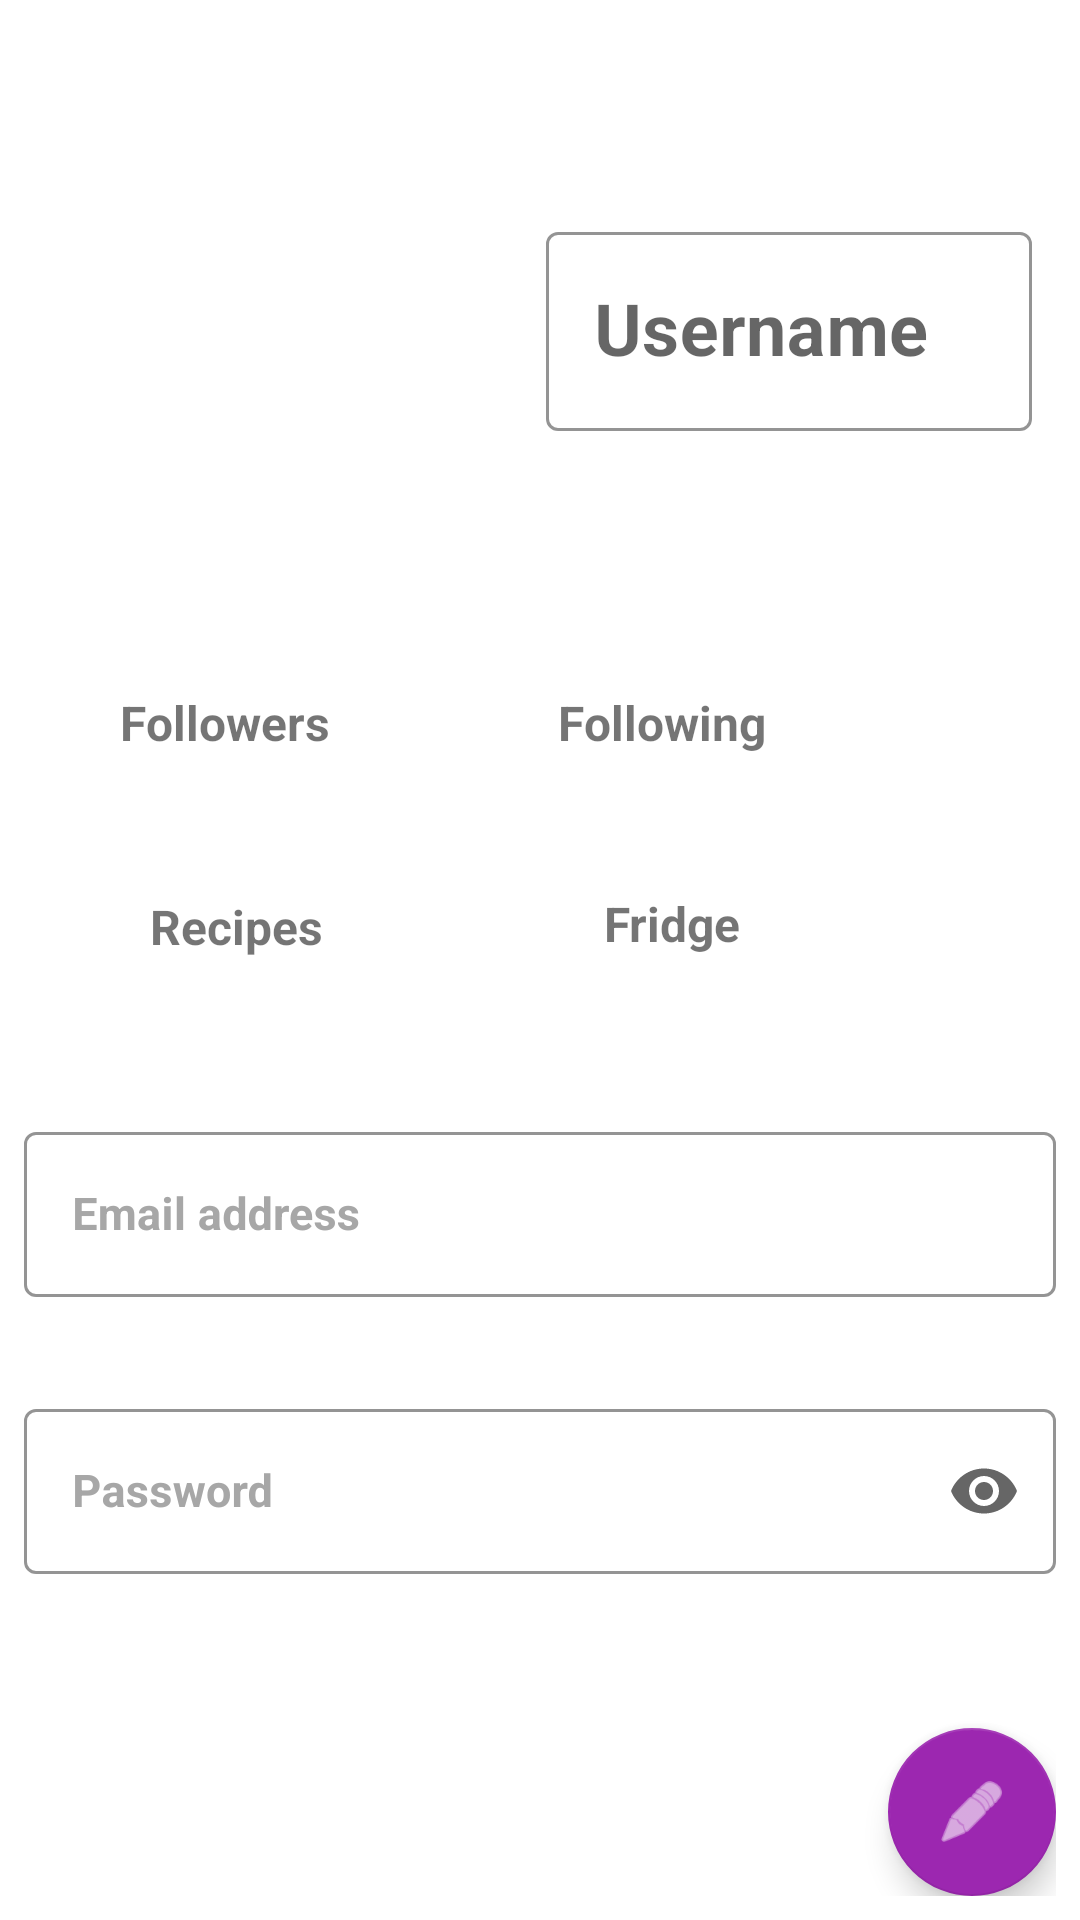

Icon bounding boxes for this 1080x1920 phone screenshot, format (x1, y1, x2, y2):
edit: (888, 1728, 1056, 1896)
